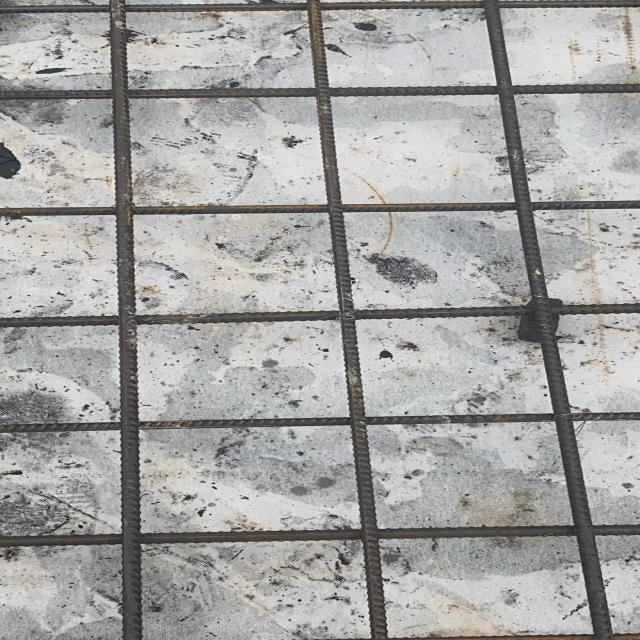ribbed bar: (478, 0, 614, 639), (303, 0, 388, 639), (108, 0, 142, 639), (0, 302, 639, 328), (0, 523, 639, 548), (0, 412, 639, 435), (0, 200, 639, 218), (0, 83, 639, 100), (0, 0, 639, 14)
